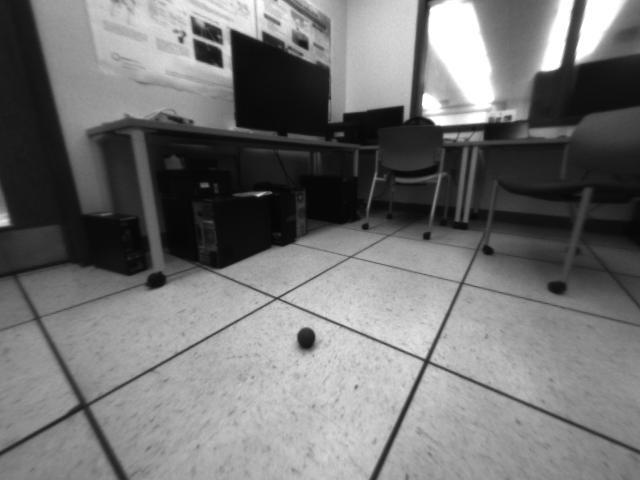dogtoy: (290, 322, 321, 356)
